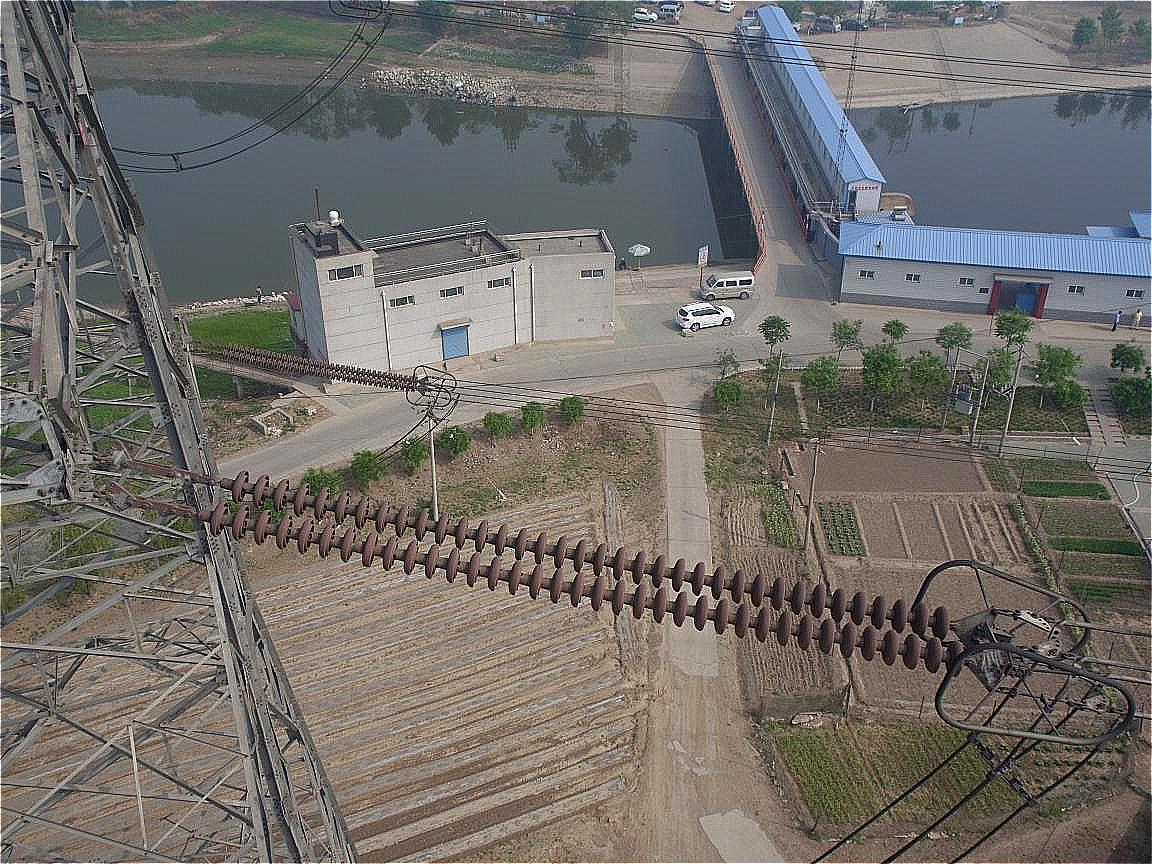insultor1: (147, 464, 996, 675)
insultor2: (188, 327, 434, 397)
